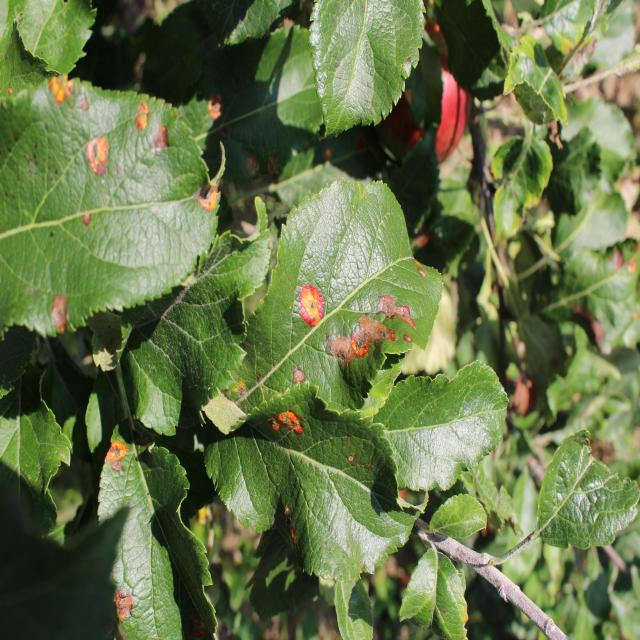Rust: (328, 289, 421, 376), (263, 398, 323, 445), (286, 276, 332, 332), (78, 124, 115, 186), (37, 67, 83, 110), (96, 438, 138, 482), (111, 584, 146, 635), (47, 291, 74, 339), (132, 91, 156, 139), (146, 120, 177, 150), (74, 202, 100, 234)
